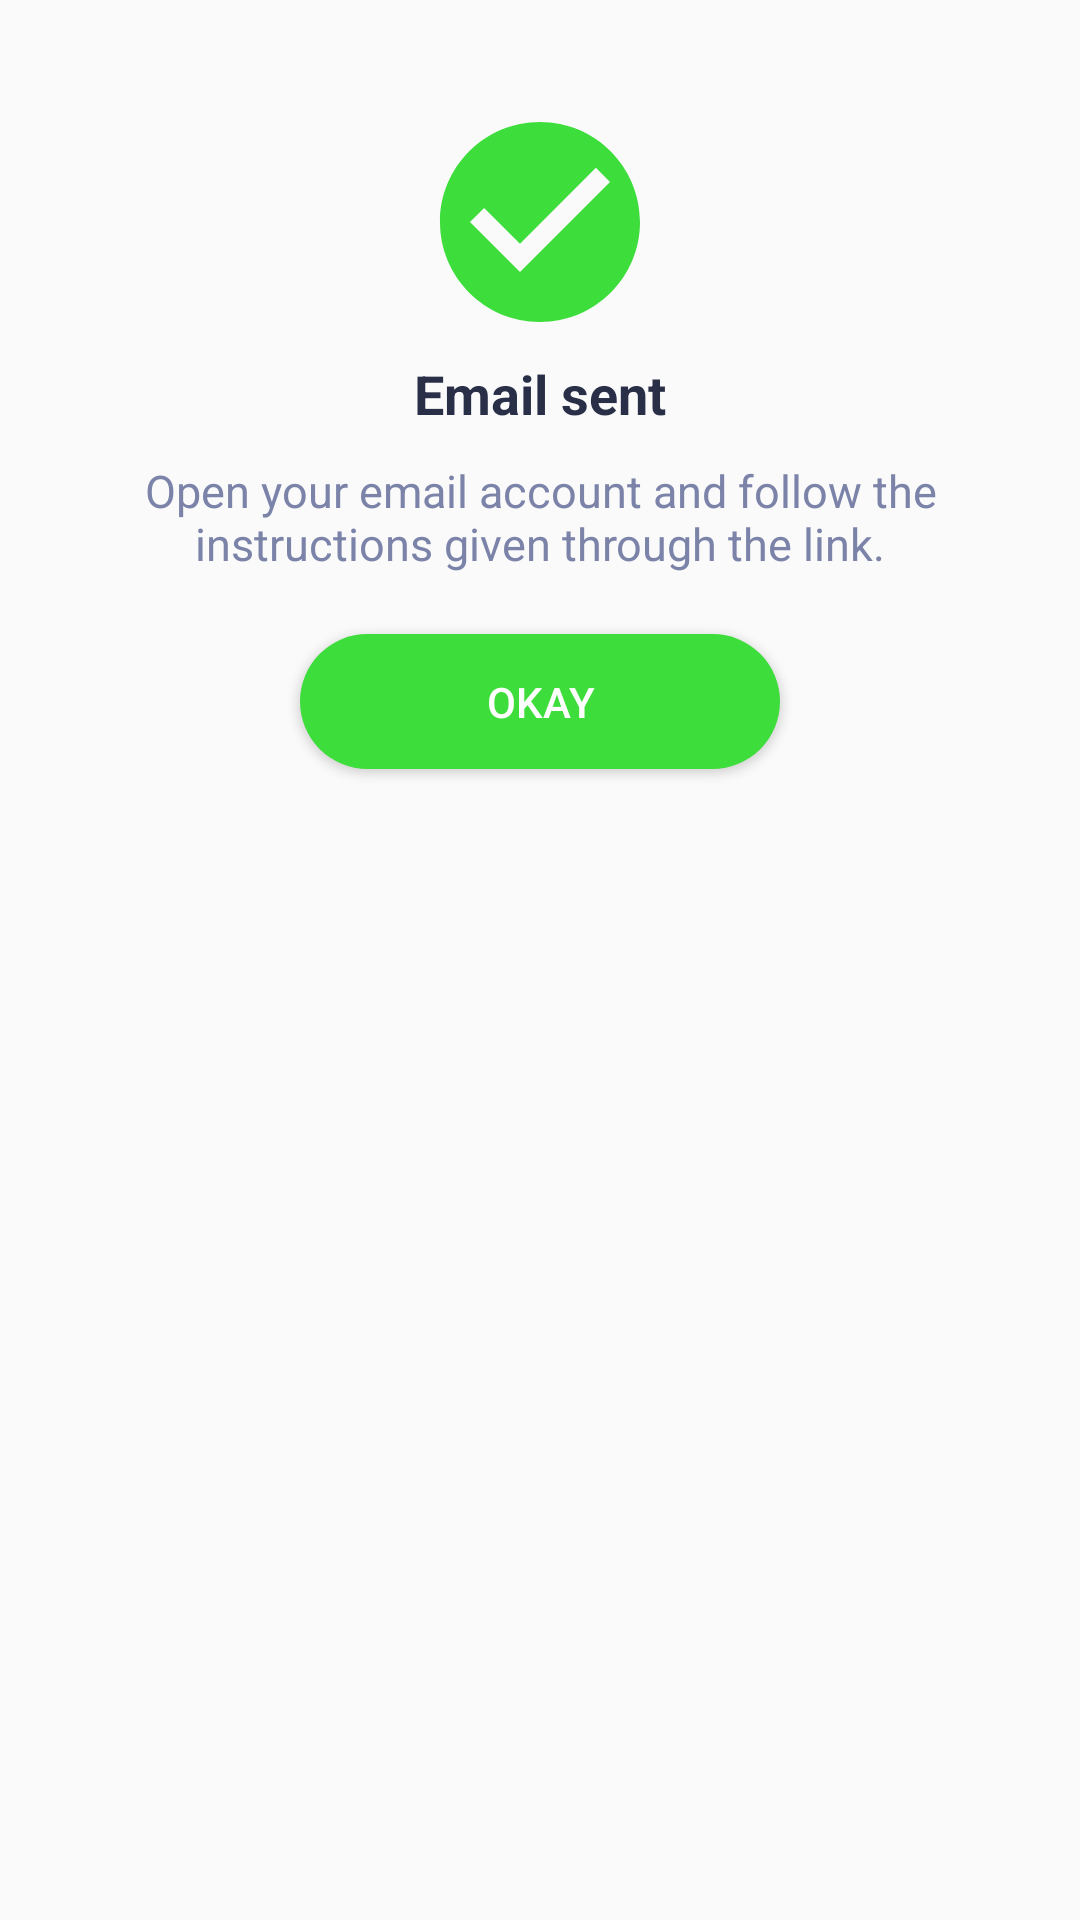

Screen size 1080*1920. Icon name, then its box in pixels as bbox=[x1, y1, x2, y2]:
done: bbox=[440, 122, 640, 322]
